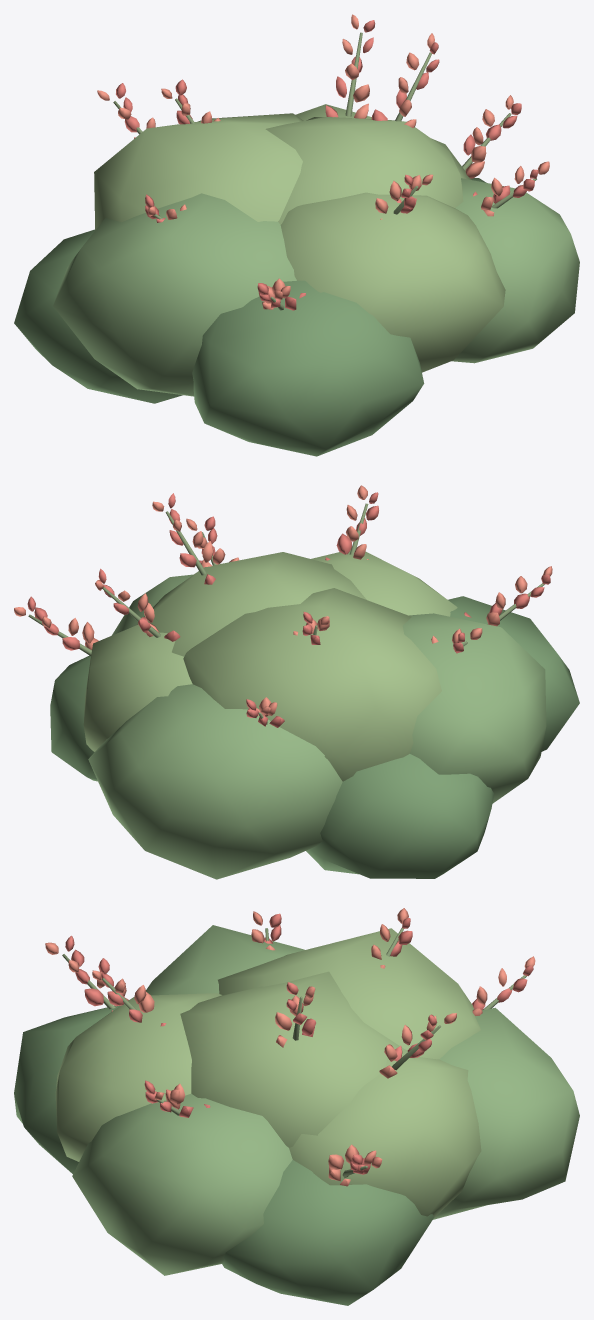
File: ceibo_bush_5.glb
3 views of the same model, one above another, from view 1: azimuth 30°, elevation 25°; view 2: azimuth 150°, elevation 25°; view 3: azimuth 270°, elevation 25° (orthographic). The views are drawn at different scales.
Parts seen in each view (by area): view 1: CeiboLeafL, CeiboLeafM, CeiboLeafD, CeiboPetal, CeiboFlower, CeiboWood; view 2: CeiboLeafM, CeiboLeafL, CeiboLeafD, CeiboFlower, CeiboPetal, CeiboWood; view 3: CeiboLeafL, CeiboLeafM, CeiboLeafD, CeiboPetal, CeiboFlower, CeiboWood.
Boxes of the visible parts, box(x1,y1,x2,y2) form: CeiboLeafL: box(94, 104, 505, 372); CeiboLeafM: box(53, 178, 579, 396); CeiboLeafD: box(14, 178, 486, 456); CeiboPetal: box(97, 14, 549, 309); CeiboFlower: box(116, 20, 538, 310); CeiboWood: box(113, 32, 536, 310); CeiboLeafM: box(88, 574, 546, 879); CeiboLeafL: box(83, 550, 457, 781); CeiboLeafD: box(50, 596, 579, 878); CeiboFlower: box(27, 492, 550, 727); CeiboPetal: box(14, 485, 552, 716); CeiboWood: box(28, 503, 544, 724); CeiboLeafL: box(55, 928, 481, 1217); CeiboLeafM: box(72, 925, 579, 1275); CeiboLeafD: box(14, 1005, 434, 1305); CeiboPetal: box(45, 908, 535, 1186); CeiboFlower: box(65, 913, 533, 1174); CeiboWood: box(62, 928, 526, 1178).
Bounding box in the file's own units: 1.95 × 1.15 × 1.9.
